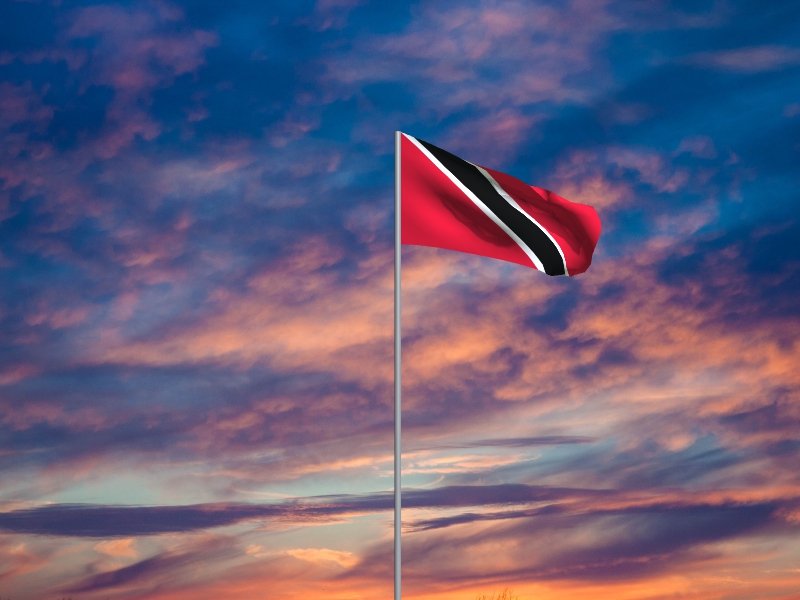tt: (403, 134, 602, 278)
